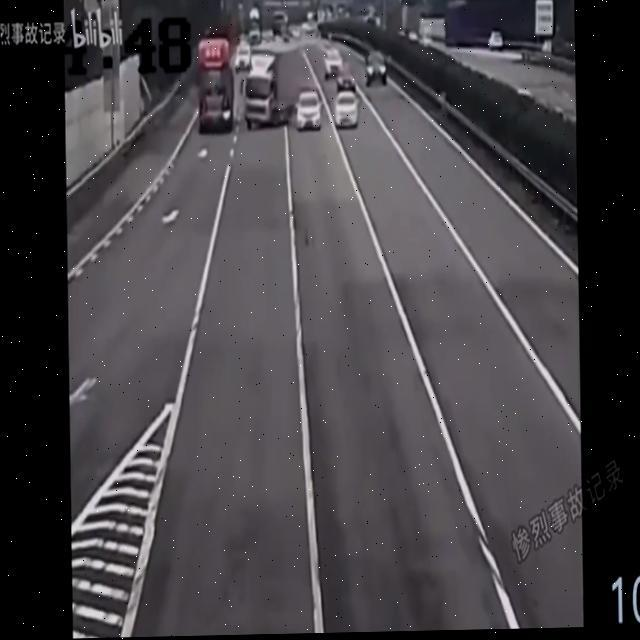normal: (178, 22, 450, 147)
